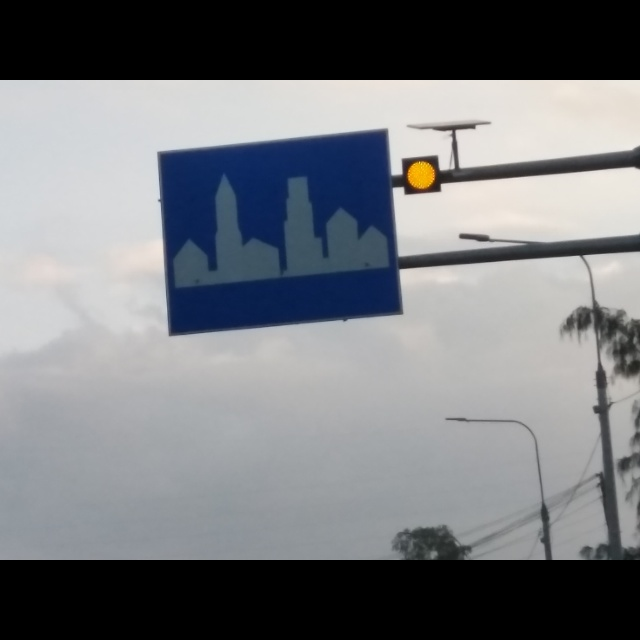Khu đông dân cư: (156, 126, 411, 340)
